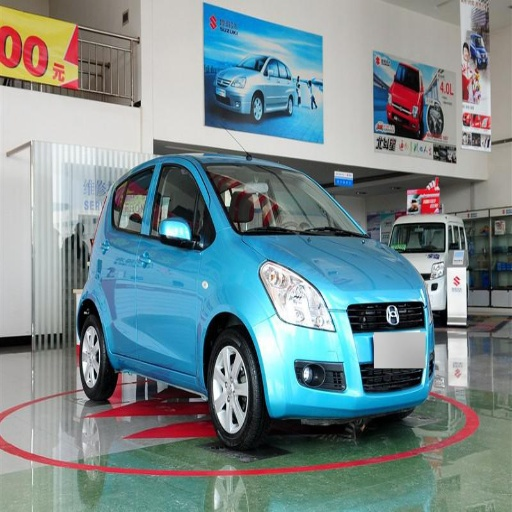front_bumper: (255, 295, 438, 419)
front_right_door: (137, 162, 204, 372)
front_right_light: (259, 262, 335, 329)
